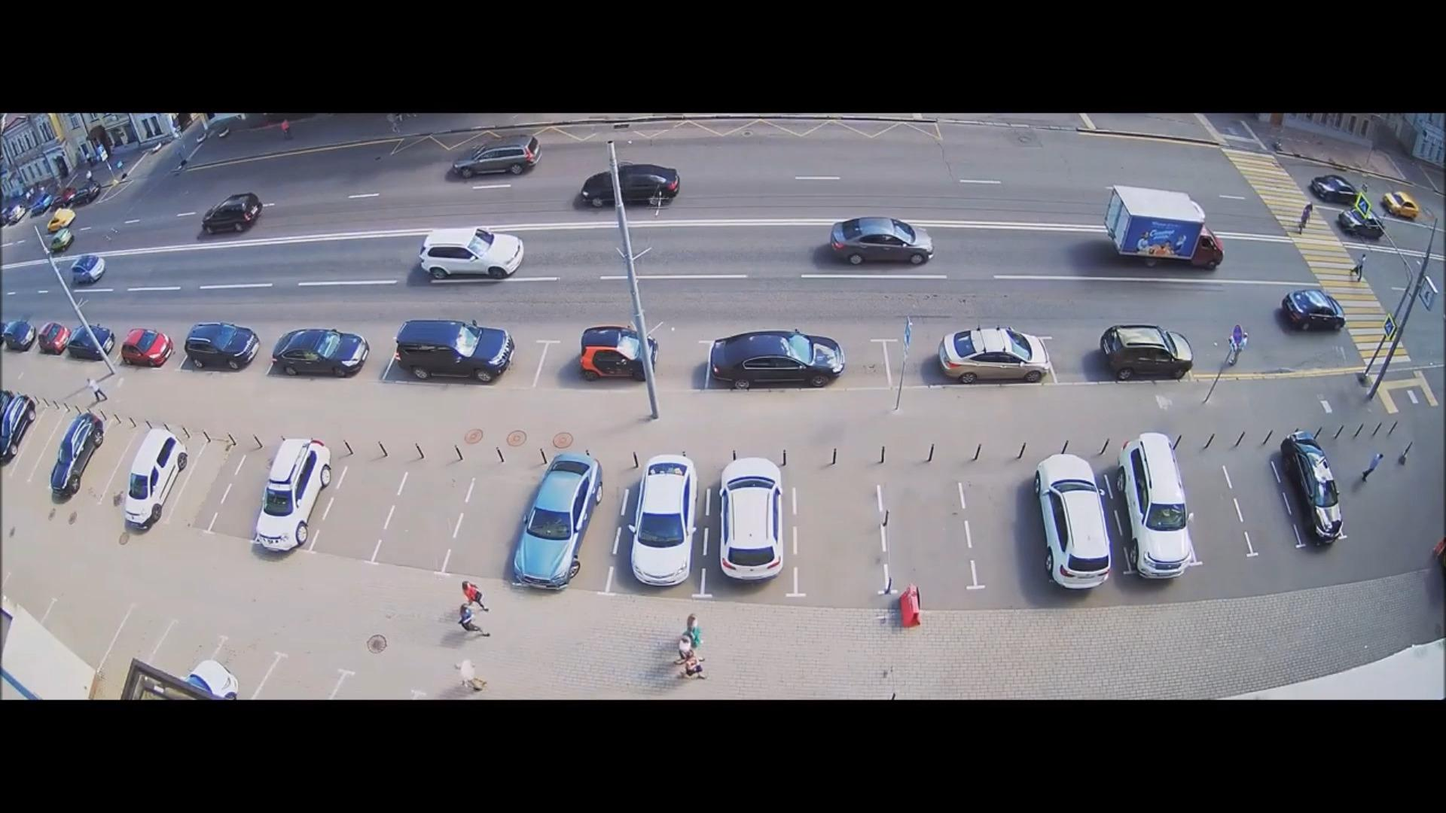free: (441, 444, 518, 573), (792, 472, 868, 601), (886, 481, 962, 609), (352, 451, 428, 579), (179, 423, 255, 551)
occupied: (512, 451, 603, 588), (1117, 433, 1194, 575), (1034, 454, 1110, 588), (628, 455, 698, 585), (254, 438, 333, 551), (717, 456, 784, 581), (392, 318, 516, 383), (708, 329, 836, 390), (1279, 432, 1346, 542), (122, 427, 190, 528), (937, 326, 1049, 385), (1100, 324, 1196, 380), (49, 414, 107, 502), (271, 327, 369, 377), (578, 323, 661, 381), (183, 322, 259, 370), (0, 392, 37, 463), (118, 327, 173, 368), (185, 659, 239, 700), (67, 323, 118, 361), (1, 319, 38, 351), (37, 322, 72, 355)
